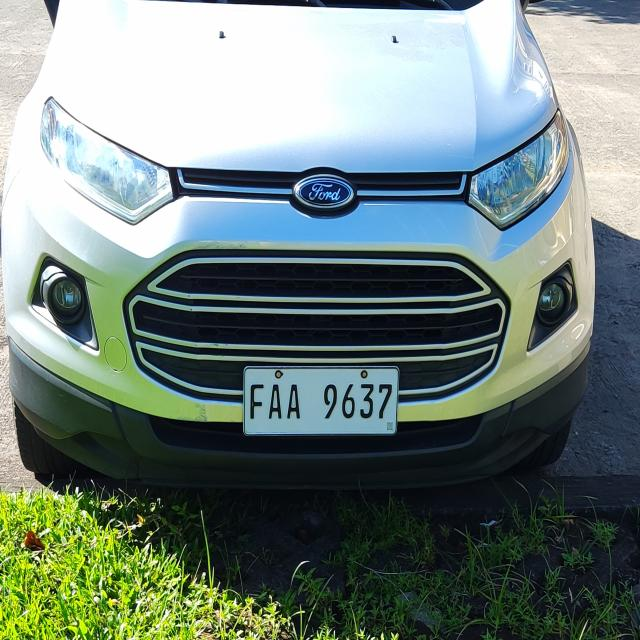plate: (239, 361, 402, 441)
